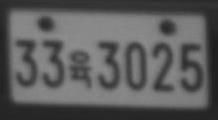0: (124, 41, 148, 90)
2: (152, 42, 174, 92)
3: (96, 41, 120, 89), (41, 38, 64, 87), (15, 38, 37, 86)
5: (179, 43, 203, 92)
육: (68, 49, 93, 89)
